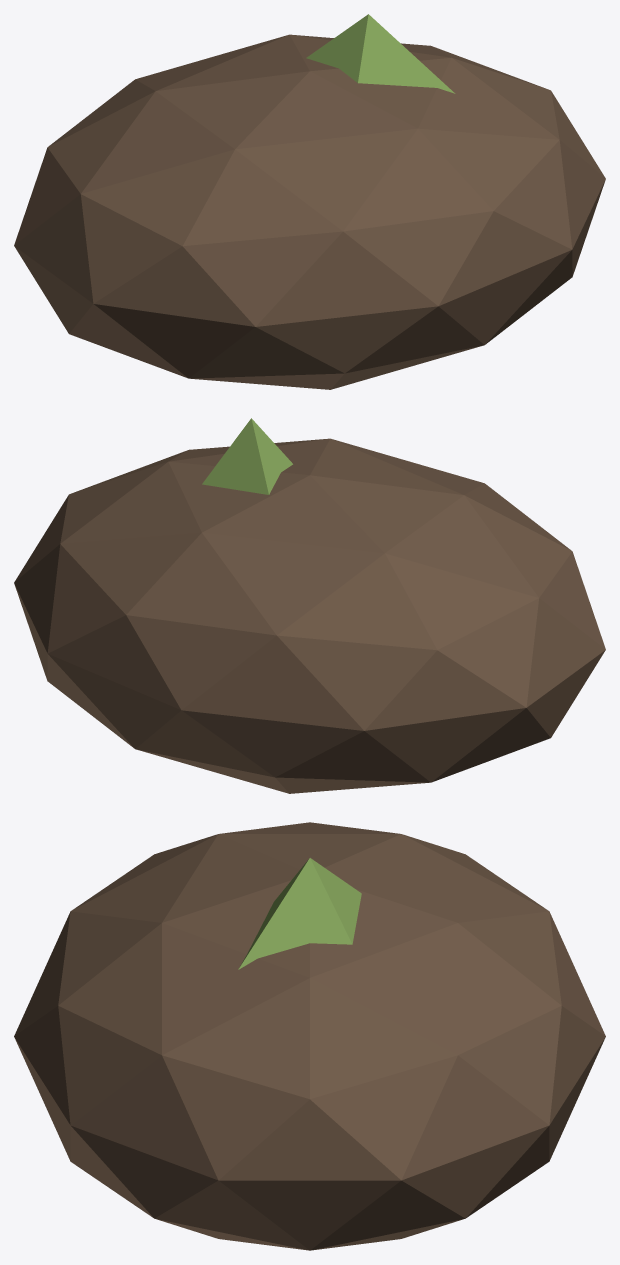
File: CC_ResourceCompost.fbx
The picture shows the model from 3 angles, top to bottom: view 1: azimuth 30°, elevation 25°; view 2: azimuth 150°, elevation 25°; view 3: azimuth 270°, elevation 25°; orthographic projection. The views are drawn at different scales.
Visible parts, largest first — view 1: Compost, Scrap; view 2: Compost, Scrap; view 3: Compost, Scrap.
Boxes of the visible parts, left/top/right/bottom form: Compost: left=14, top=34, right=605, bottom=389; Scrap: left=306, top=14, right=455, bottom=93; Compost: left=14, top=438, right=605, bottom=793; Scrap: left=202, top=418, right=292, bottom=494; Compost: left=14, top=822, right=605, bottom=1250; Scrap: left=238, top=858, right=361, bottom=969.
Size of the model in its own units: 0.875 by 0.53 by 0.76.
